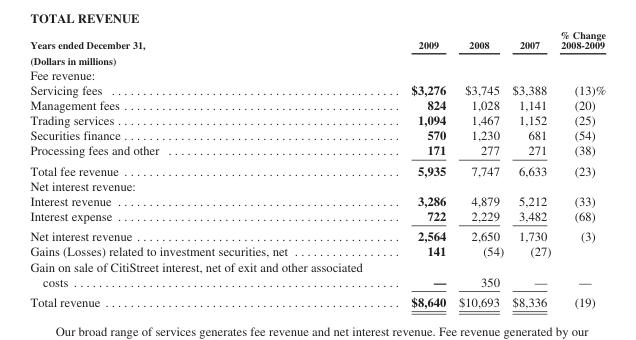table: (29, 28, 605, 308)
table column: (29, 28, 386, 308), (386, 28, 451, 308), (451, 28, 507, 308), (554, 28, 605, 308), (507, 28, 554, 308)
table column header: (29, 28, 605, 52)
table projected row header: (29, 66, 605, 81), (29, 177, 605, 192), (29, 52, 605, 66)
table row: (29, 258, 605, 291), (29, 28, 605, 52), (29, 142, 605, 160), (29, 225, 605, 243), (29, 160, 605, 177), (29, 208, 605, 225), (29, 291, 605, 308), (29, 96, 605, 112), (29, 192, 605, 208), (29, 66, 605, 81), (29, 81, 605, 96), (29, 112, 605, 127), (29, 127, 605, 142), (29, 177, 605, 192), (29, 243, 605, 258), (29, 52, 605, 66)
